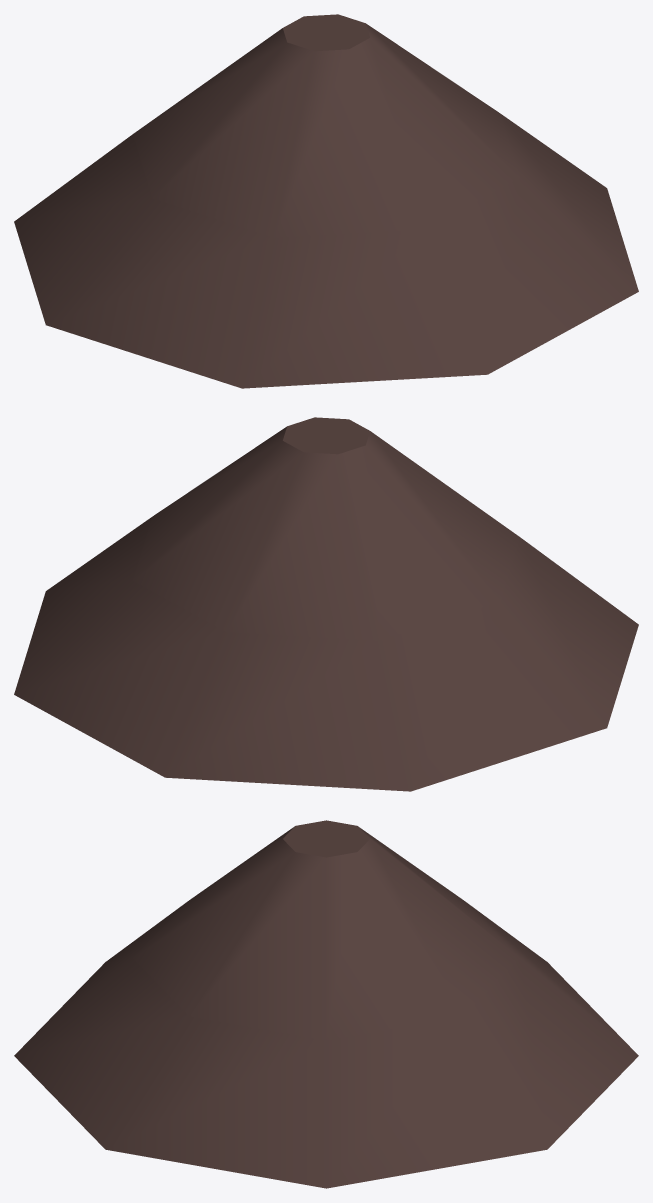
The model's file is site_stockpile2_far.fbx.
3 views of the same model, one above another, from view 1: azimuth 30°, elevation 25°; view 2: azimuth 150°, elevation 25°; view 3: azimuth 270°, elevation 25° (orthographic). The views are drawn at different scales.
Parts seen in each view (by area): view 1: a1022/0/site_stockpile2_far; view 2: a1022/0/site_stockpile2_far; view 3: a1022/0/site_stockpile2_far.
Boxes of the visible parts, x1,y1,x2,y2 form: a1022/0/site_stockpile2_far: [14, 14, 638, 388]; a1022/0/site_stockpile2_far: [14, 417, 638, 791]; a1022/0/site_stockpile2_far: [14, 820, 638, 1188].
Bounding box in the file's own units: 13.12 × 5 × 13.06.
